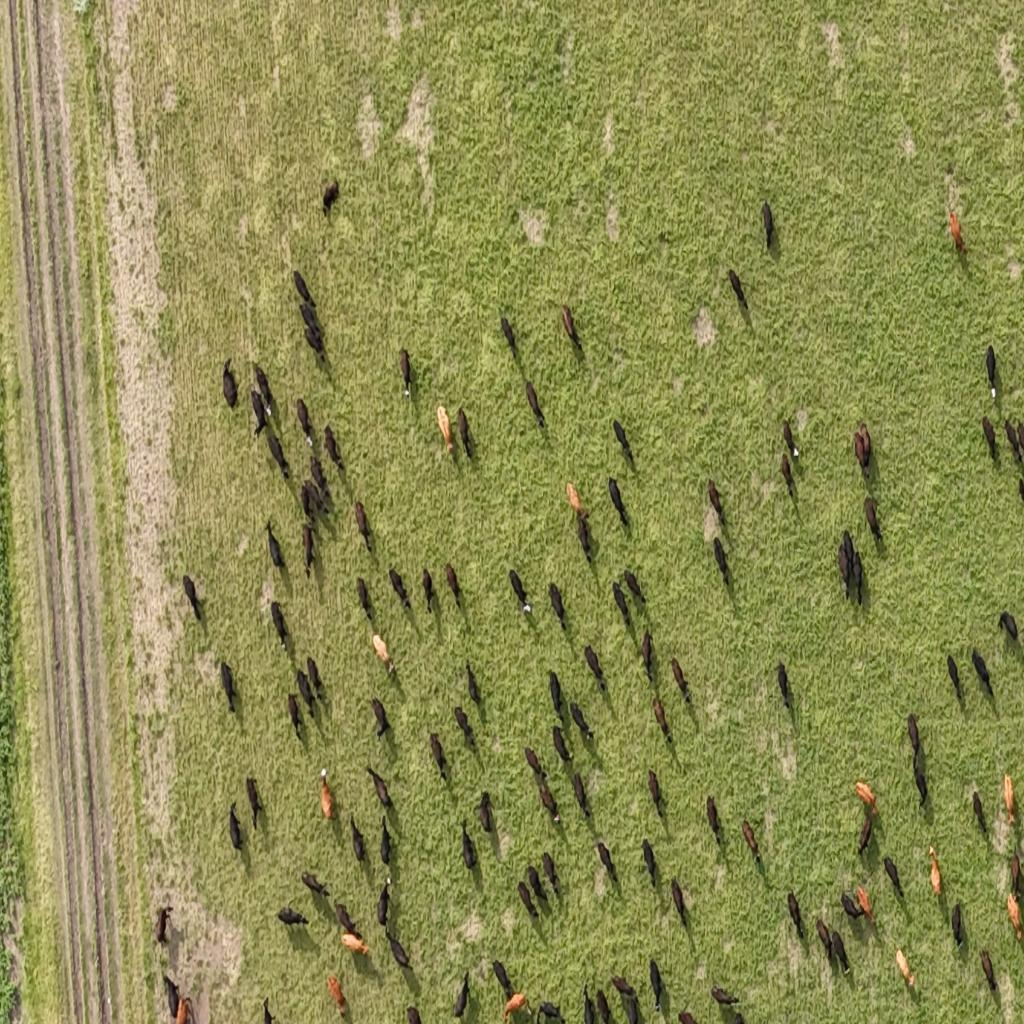cow: (264, 421, 296, 486), (212, 347, 241, 416), (295, 522, 325, 582), (610, 412, 640, 468), (289, 293, 329, 333), (945, 212, 974, 266), (253, 352, 281, 407), (944, 650, 968, 714), (570, 504, 598, 558), (563, 298, 589, 356), (726, 255, 752, 313), (392, 339, 418, 394), (293, 260, 324, 306), (296, 326, 334, 362), (268, 593, 291, 652), (310, 448, 338, 496), (216, 661, 243, 710), (220, 806, 248, 853), (300, 865, 332, 905), (321, 421, 348, 468), (245, 768, 268, 823), (263, 520, 287, 572), (862, 490, 888, 538), (366, 764, 393, 810), (246, 388, 274, 432), (776, 450, 800, 501), (445, 560, 469, 609), (274, 905, 310, 937), (156, 896, 176, 953), (159, 972, 183, 1019), (385, 925, 410, 970), (609, 476, 629, 532), (972, 648, 994, 698), (584, 644, 607, 691), (183, 571, 204, 622), (436, 400, 454, 459), (372, 632, 396, 676), (298, 479, 318, 531), (500, 306, 521, 354), (348, 811, 366, 867), (570, 700, 594, 742), (854, 422, 872, 478), (984, 332, 1000, 394), (508, 568, 530, 613), (334, 900, 360, 938), (525, 378, 545, 427), (356, 494, 374, 548), (389, 568, 411, 612), (517, 879, 539, 923), (755, 199, 778, 241), (883, 855, 904, 901), (596, 840, 617, 886), (548, 582, 568, 630), (671, 656, 691, 704), (831, 930, 851, 978), (357, 571, 376, 621), (779, 416, 801, 459), (527, 865, 548, 910), (713, 537, 731, 589), (566, 481, 590, 520), (538, 780, 559, 824), (772, 660, 792, 706), (671, 878, 689, 928), (327, 974, 347, 1019), (305, 477, 328, 516), (787, 890, 805, 939), (624, 569, 646, 609), (429, 732, 448, 778), (571, 771, 590, 817), (837, 538, 851, 600), (296, 669, 314, 717), (612, 582, 630, 629), (1004, 417, 1022, 464), (816, 916, 834, 963), (458, 404, 473, 460), (454, 706, 474, 748), (896, 947, 916, 989), (856, 884, 876, 926), (548, 671, 565, 720), (462, 821, 478, 873), (503, 992, 529, 1024), (1006, 893, 1022, 945), (654, 697, 672, 743), (552, 725, 572, 766), (371, 697, 390, 740), (453, 972, 470, 1020), (642, 838, 658, 889), (855, 782, 879, 816), (341, 930, 370, 958), (649, 958, 664, 1012), (742, 819, 760, 864), (648, 769, 664, 819), (492, 958, 512, 998), (998, 610, 1019, 648), (306, 656, 324, 700), (524, 745, 546, 781), (286, 693, 302, 742), (840, 890, 864, 922), (477, 792, 495, 834), (542, 851, 560, 893), (851, 548, 864, 606), (972, 791, 988, 838), (708, 478, 724, 524), (641, 630, 655, 682), (322, 177, 340, 217), (706, 796, 721, 844), (982, 948, 998, 992), (377, 874, 390, 928), (466, 661, 481, 707), (982, 416, 997, 462), (710, 984, 740, 1007), (857, 815, 873, 858), (320, 773, 334, 822), (1003, 772, 1016, 824), (929, 845, 942, 897), (907, 712, 921, 760), (914, 762, 928, 810), (842, 529, 856, 573), (296, 396, 312, 434), (610, 975, 636, 998), (537, 1001, 565, 1022), (380, 814, 391, 867), (596, 988, 612, 1024), (952, 902, 964, 949), (422, 568, 435, 611), (582, 987, 596, 1024), (625, 993, 640, 1024), (1016, 850, 1024, 898), (263, 998, 276, 1024), (677, 1009, 697, 1024), (406, 1005, 422, 1023), (733, 1011, 746, 1024)
